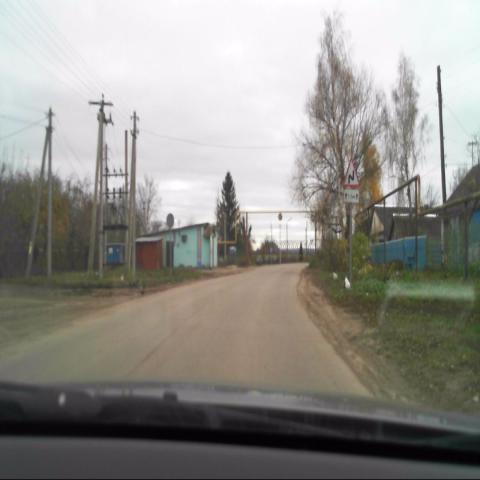1_12: (344, 159, 358, 186)
